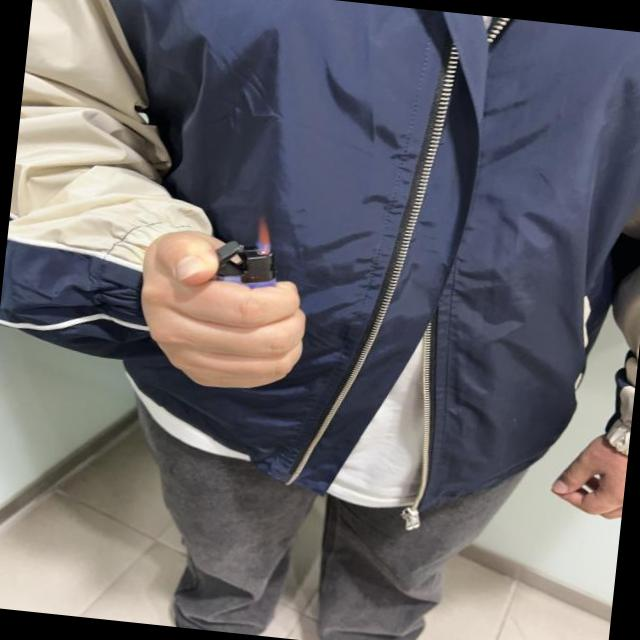Fire: (251, 216, 277, 256)
